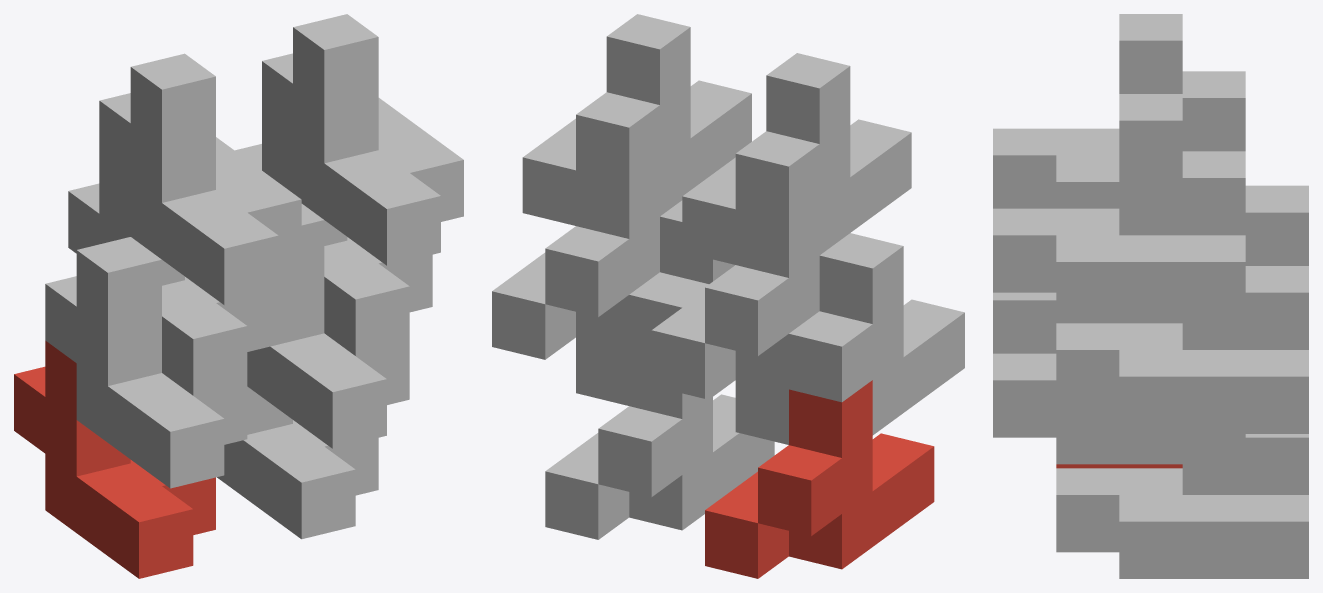
Rendered from tiling.obj.
3 views of the same model, side by side, from view 1: azimuth 30°, elevation 25°; view 2: azimuth 150°, elevation 25°; view 3: azimuth 270°, elevation 25° (orthographic). The views are drawn at different scales.
Parts seen in each view (by area): view 1: copy_1_domain_4, copy_1_domain_8, copy_1_domain_2, copy_1_domain_1, copy_1_domain_6, copy_1_domain_3, copy_1_domain_5, copy_1_domain_7; view 2: copy_1_domain_1, copy_1_domain_4, copy_1_domain_8, copy_1_domain_2, copy_1_domain_5, copy_1_domain_3, copy_1_domain_7, copy_1_domain_6; view 3: copy_1_domain_8, copy_1_domain_7, copy_1_domain_5, copy_1_domain_4, copy_1_domain_6, copy_1_domain_3, copy_1_domain_2, copy_1_domain_1.
Part boxes in pixels (x1=…): copy_1_domain_4: x1=99, y1=53, x2=301, y2=305; copy_1_domain_8: x1=262, y1=14, x2=463, y2=265; copy_1_domain_2: x1=45, y1=237, x2=247, y2=488; copy_1_domain_1: x1=14, y1=340, x2=215, y2=578; copy_1_domain_6: x1=247, y1=204, x2=409, y2=448; copy_1_domain_3: x1=68, y1=157, x2=270, y2=395; copy_1_domain_5: x1=217, y1=386, x2=378, y2=539; copy_1_domain_7: x1=235, y1=118, x2=432, y2=355; copy_1_domain_1: x1=705, y1=380, x2=934, y2=578; copy_1_domain_4: x1=682, y1=53, x2=911, y2=264; copy_1_domain_8: x1=522, y1=14, x2=751, y2=225; copy_1_domain_2: x1=735, y1=233, x2=964, y2=444; copy_1_domain_5: x1=545, y1=350, x2=774, y2=539; copy_1_domain_3: x1=651, y1=200, x2=819, y2=398; copy_1_domain_7: x1=492, y1=161, x2=659, y2=359; copy_1_domain_6: x1=576, y1=200, x2=735, y2=405; copy_1_domain_8: x1=993, y1=94, x2=1245, y2=319; copy_1_domain_7: x1=1056, y1=266, x2=1308, y2=433; copy_1_domain_5: x1=1056, y1=434, x2=1308, y2=578; copy_1_domain_4: x1=993, y1=14, x2=1245, y2=208; copy_1_domain_6: x1=993, y1=319, x2=1245, y2=464; copy_1_domain_3: x1=1056, y1=185, x2=1308, y2=323; copy_1_domain_2: x1=993, y1=292, x2=1056, y2=353; copy_1_domain_1: x1=1056, y1=464, x2=1182, y2=468.
Size of the model in its own units: 6 by 8 by 5.
